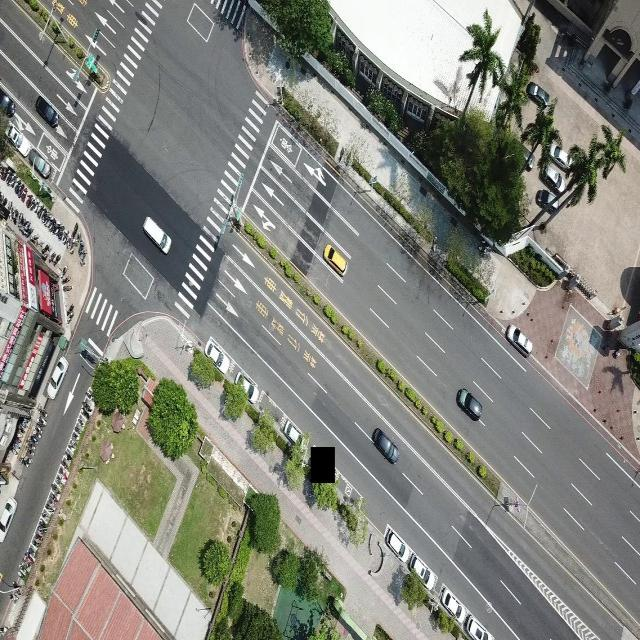bike: (85, 391, 97, 405), (58, 466, 68, 482), (19, 562, 29, 577), (50, 492, 60, 506), (25, 552, 35, 566), (61, 274, 72, 286), (80, 408, 90, 421), (55, 474, 65, 487), (6, 170, 14, 186), (26, 439, 36, 451), (38, 406, 48, 418), (82, 400, 92, 412), (64, 450, 74, 462), (61, 458, 71, 470), (46, 502, 56, 514), (17, 570, 27, 582), (20, 220, 30, 232), (29, 546, 38, 559), (39, 518, 48, 531), (60, 265, 68, 279), (72, 222, 80, 236), (15, 178, 22, 194), (30, 194, 37, 210), (37, 204, 45, 218), (78, 238, 85, 254), (45, 211, 52, 227), (36, 417, 47, 427), (33, 426, 42, 438), (42, 242, 51, 254), (25, 226, 34, 238), (70, 238, 77, 253), (20, 458, 30, 468), (51, 483, 60, 494), (67, 303, 74, 317), (49, 251, 56, 265), (53, 254, 61, 266), (22, 186, 28, 202), (13, 208, 19, 224), (26, 194, 34, 206), (67, 312, 74, 325), (26, 446, 35, 456), (71, 431, 80, 441), (42, 512, 51, 522), (11, 173, 17, 188), (6, 199, 12, 214), (34, 531, 43, 541), (30, 434, 38, 445), (77, 418, 85, 429), (68, 443, 76, 454), (29, 234, 40, 242), (18, 184, 24, 198), (18, 212, 24, 226), (63, 229, 69, 243), (48, 214, 54, 228), (24, 455, 33, 464), (72, 426, 82, 434), (32, 538, 40, 548), (34, 200, 40, 213), (42, 209, 48, 222), (1, 198, 8, 209), (10, 206, 15, 221), (60, 224, 65, 239), (62, 286, 74, 292)
car: (382, 514, 410, 566), (143, 215, 171, 255), (443, 580, 466, 628), (203, 336, 230, 376), (46, 355, 69, 400), (372, 427, 399, 465), (413, 551, 438, 590), (505, 323, 532, 358), (456, 387, 482, 420), (234, 371, 259, 405), (6, 120, 29, 156), (541, 161, 566, 194), (35, 94, 58, 128), (0, 496, 17, 542), (323, 244, 347, 276), (28, 147, 51, 178), (549, 141, 572, 171), (281, 416, 302, 447), (526, 81, 550, 108), (472, 612, 492, 640), (536, 188, 559, 212), (0, 88, 15, 117)
